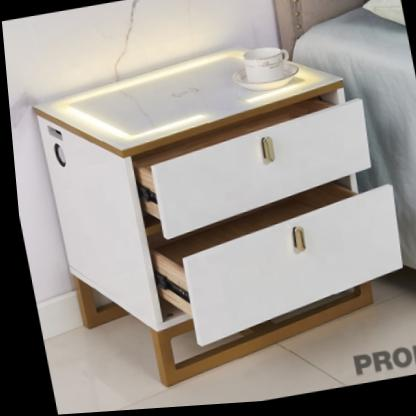Nightstand: (26, 47, 405, 366)
